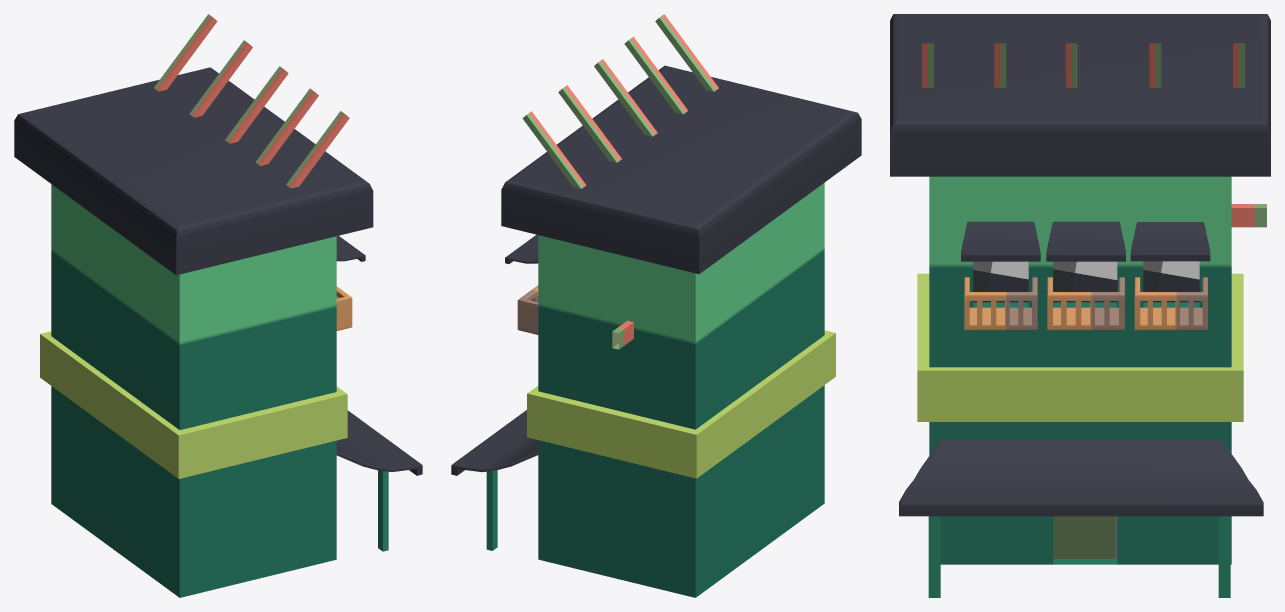
Rendered from BuildingShort_05C.fbx.
3 views of the same model, side by side, from view 1: azimuth 30°, elevation 25°; view 2: azimuth 150°, elevation 25°; view 3: azimuth 270°, elevation 25° (orthographic). The views are drawn at different scales.
Parts seen in each view (by area): view 1: polySurface1074; view 2: polySurface1074; view 3: polySurface1074.
Part boxes in pixels (x1,y1,x2,y2): polySurface1074: [14, 14, 422, 597]; polySurface1074: [451, 14, 861, 597]; polySurface1074: [890, 14, 1270, 597].
Size of the model in its own units: 4.81 by 8.24 by 5.38.
